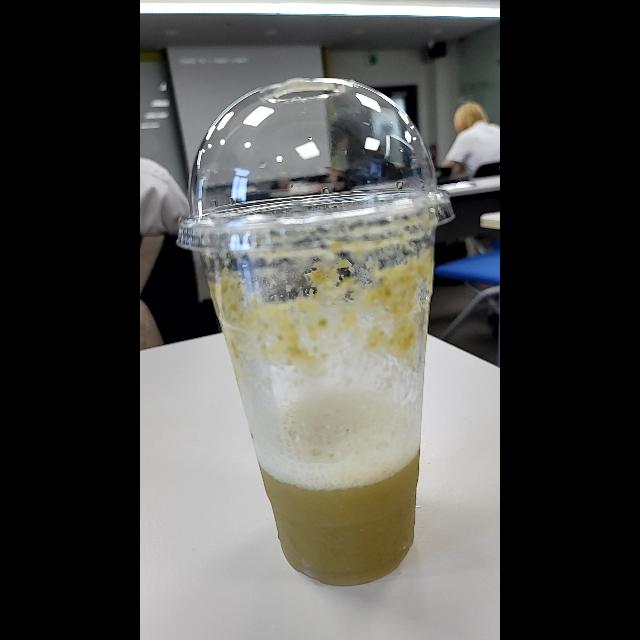plastic_cup: (177, 62, 451, 588)
plastic_cup_lid: (173, 74, 459, 260)
